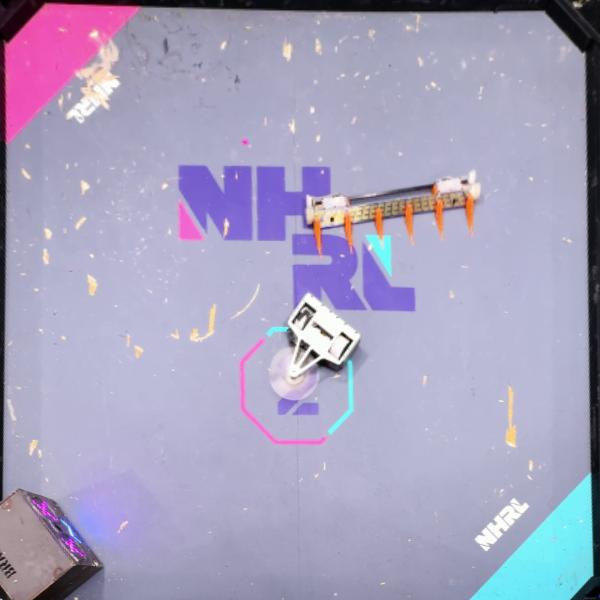housebot: (0, 489, 104, 600)
robot: (304, 167, 484, 257), (268, 292, 360, 406)
